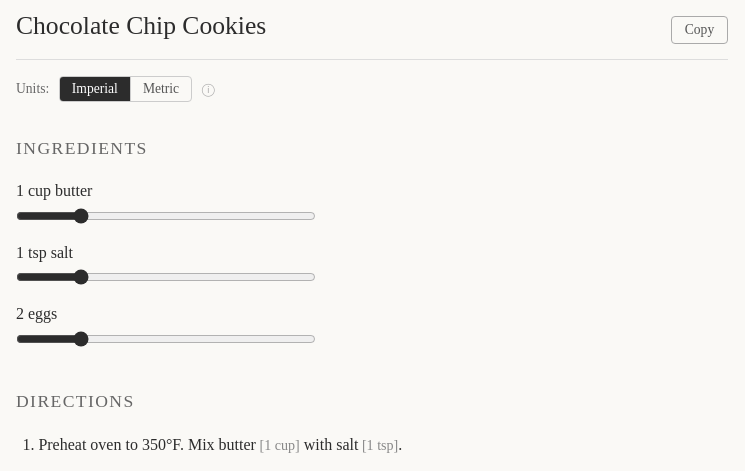
Test: RecipeDisplay › scaling › scaling and metric conversion work together
Set the slider below "1 cup butter" to "2" at point(157, 216), box [16, 208, 316, 224]
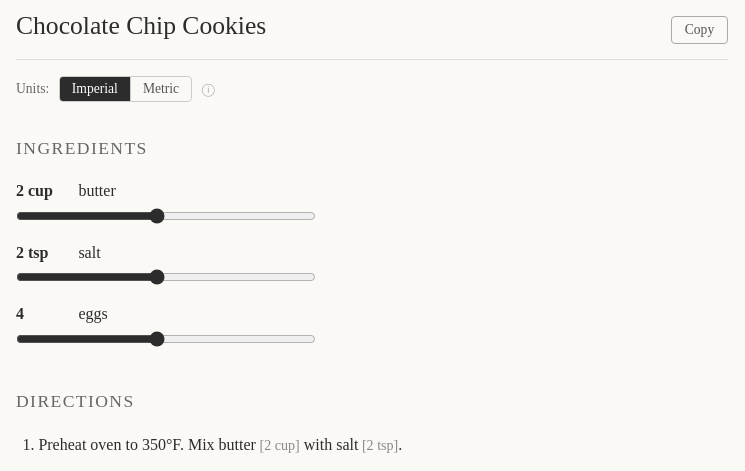
Click the button "Metric" at point(161, 89), box [130, 77, 191, 101]
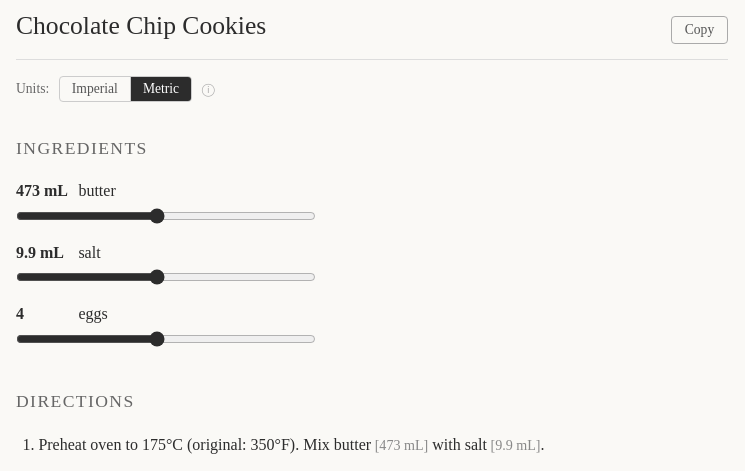
Now the text with class "amount" reads "473 mL", box [16, 182, 68, 199]
